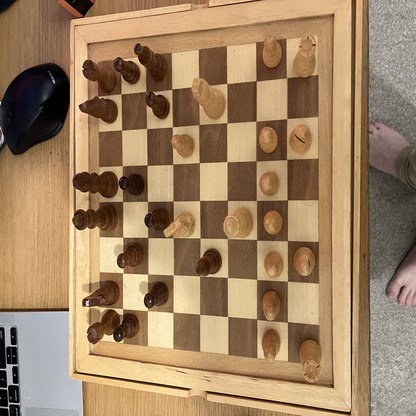bishop_black: (134, 44, 169, 81), (196, 249, 222, 276)
bishop_white: (290, 125, 313, 154), (294, 247, 315, 275)
king_black: (71, 172, 117, 198)
king_white: (192, 79, 226, 120)
knight_black: (79, 97, 117, 123), (83, 280, 119, 306)
knight_white: (164, 213, 194, 236)
pawn_black: (114, 58, 141, 84), (145, 91, 170, 119), (113, 315, 139, 340), (145, 282, 169, 307), (117, 244, 142, 267), (144, 207, 168, 229), (120, 172, 144, 194)
pawn_white: (263, 35, 282, 67), (262, 329, 281, 361), (172, 135, 195, 157), (259, 127, 278, 153), (265, 251, 284, 276), (260, 172, 280, 195), (263, 292, 280, 319), (264, 211, 283, 233)
queen_black: (73, 206, 117, 230)
queen_white: (222, 208, 253, 238)
rock_black: (87, 310, 119, 344), (83, 60, 116, 90)
rock_white: (300, 339, 323, 384), (294, 35, 317, 76)
